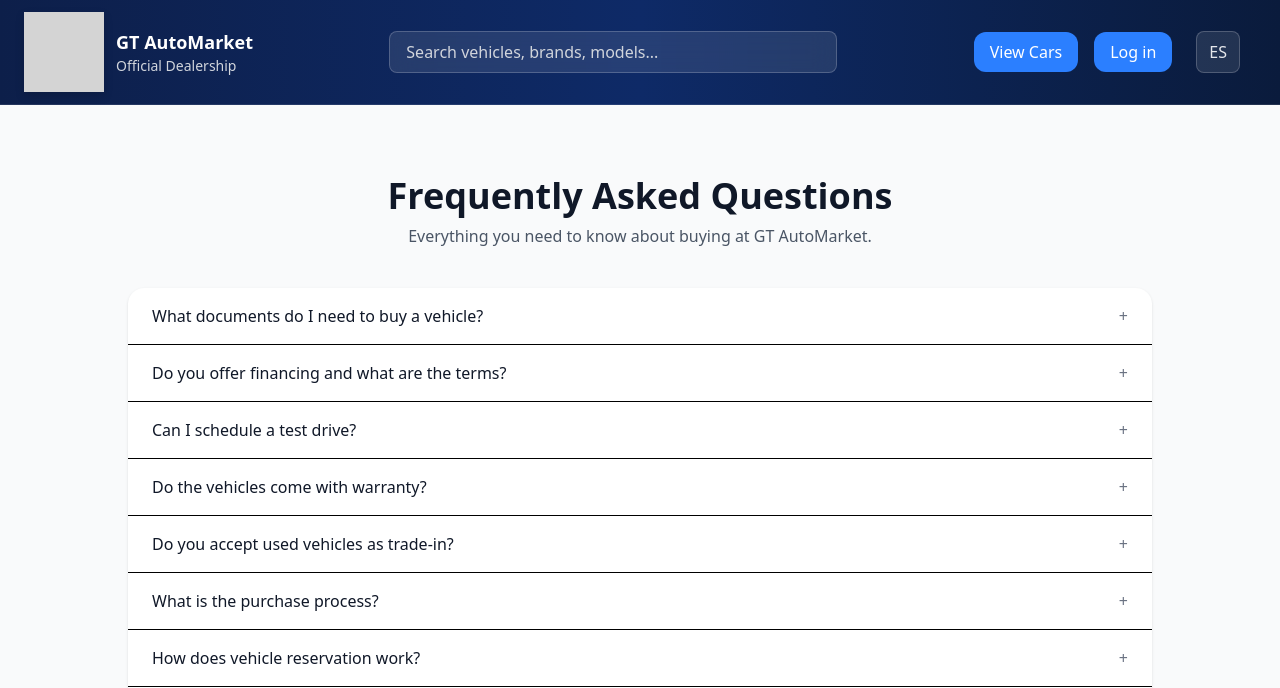
Test case: Internationalization (i18n) › should translate FAQ page
Expected: the heading "Frequently Asked Questions" is shown, [388,171,892,220]
# Switch to Spanish
Click the button "ES": [1218, 52] box [1196,31,1240,73]
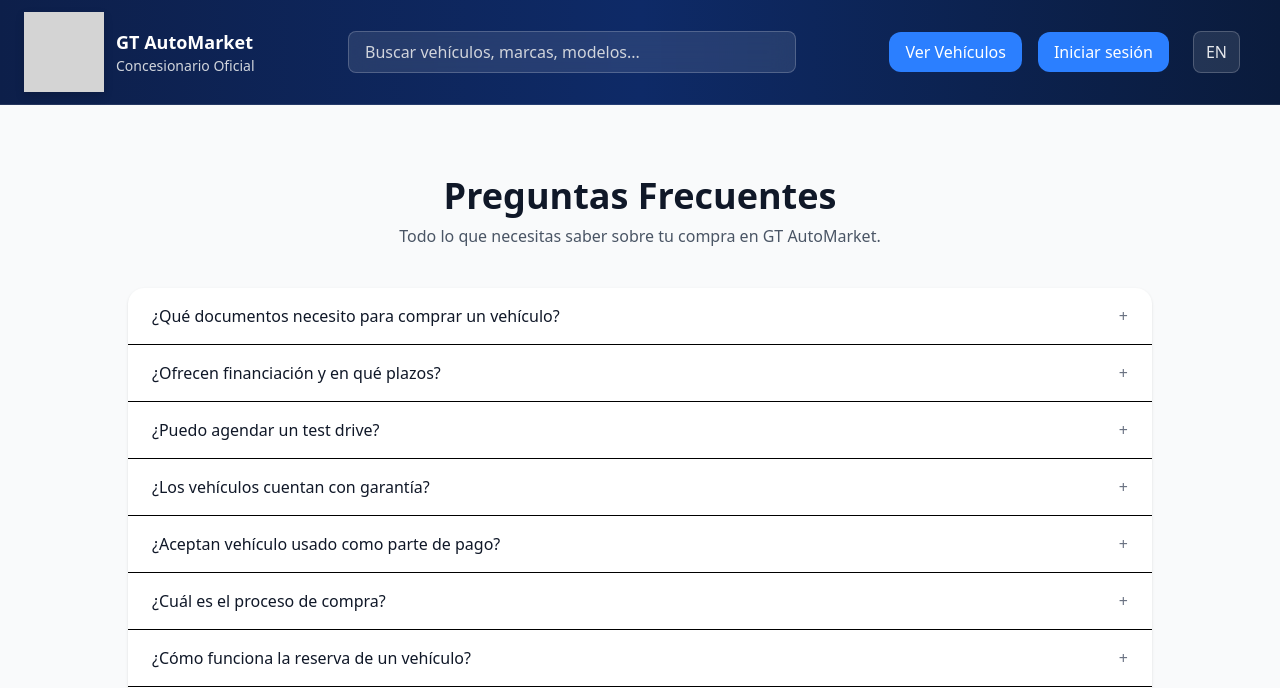
Now the heading "Preguntas Frecuentes" is shown, box [444,171,836,220]
